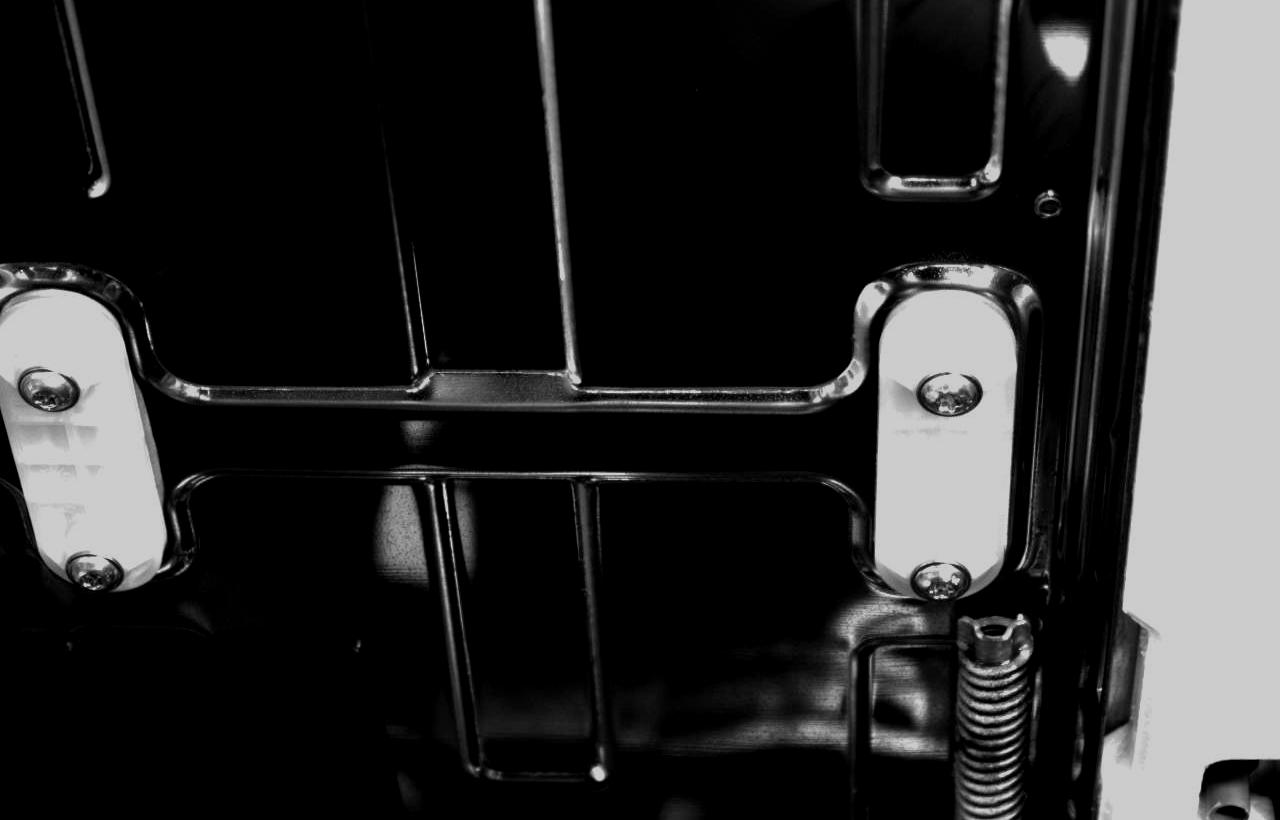vida-ok: (9, 358, 83, 422), (914, 359, 986, 419), (903, 552, 976, 611), (56, 547, 129, 601)
